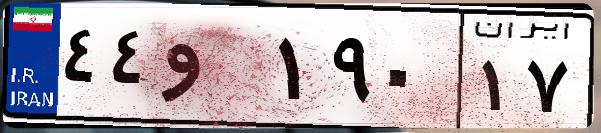0: (385, 28, 445, 110)
1: (270, 28, 330, 110), (475, 38, 525, 113)
4: (57, 26, 110, 100), (110, 28, 158, 98)
7: (525, 38, 570, 115)
9: (330, 28, 385, 110)
و: (158, 20, 270, 120)
